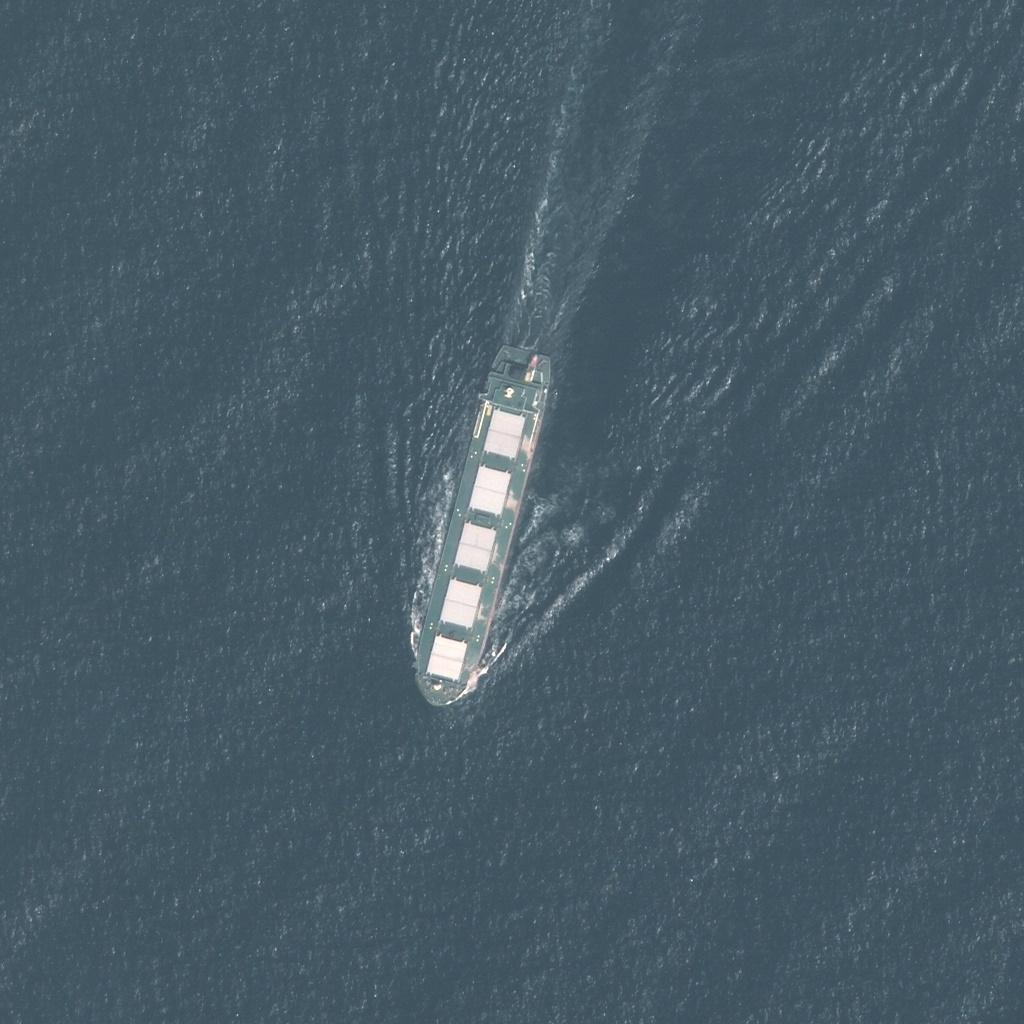ship: (412, 340, 553, 714)
